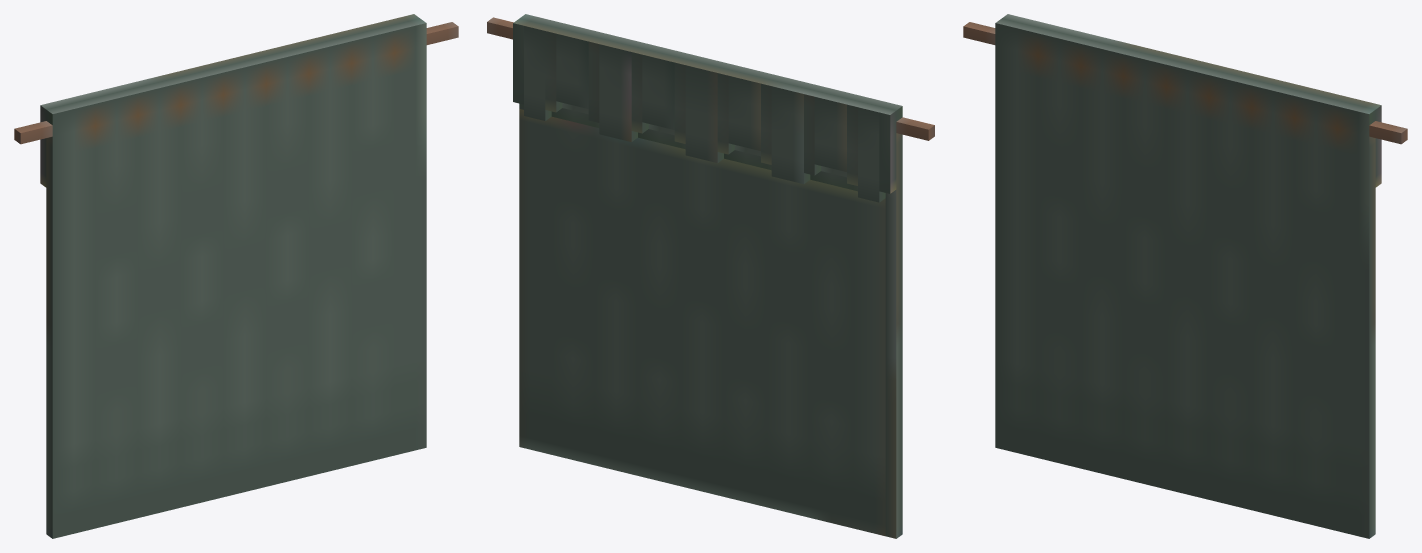
File: CurtainDarkGrey_00.obj
3 views of the same model, side by side, from view 1: azimuth 30°, elevation 25°; view 2: azimuth 150°, elevation 25°; view 3: azimuth 330°, elevation 25° (orthographic).
Visible parts, largest first — view 1: CurtainDarkGrey_00; view 2: CurtainDarkGrey_00; view 3: CurtainDarkGrey_00.
Boxes of the visible parts, box(x1,y1,x2,y2) form: CurtainDarkGrey_00: box(14, 14, 458, 538); CurtainDarkGrey_00: box(487, 14, 934, 538); CurtainDarkGrey_00: box(963, 14, 1407, 538).
Size of the model in its own units: 2.05 by 1.9 by 0.1.
